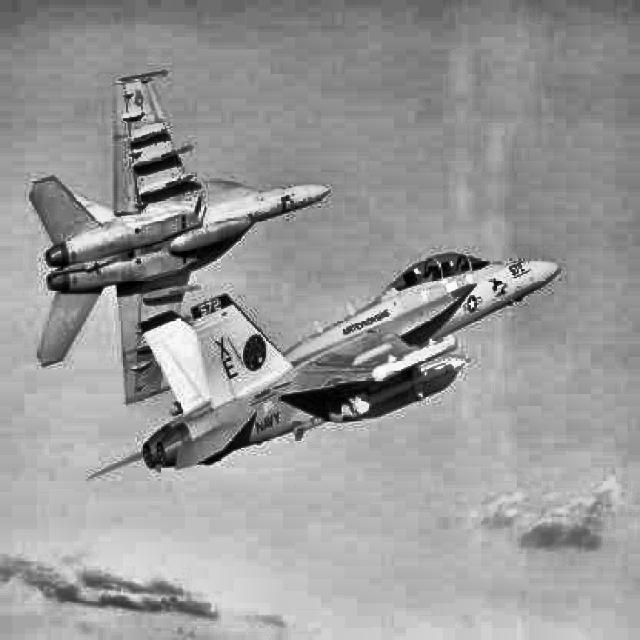F18: (88, 252, 562, 480), (29, 70, 331, 404)
